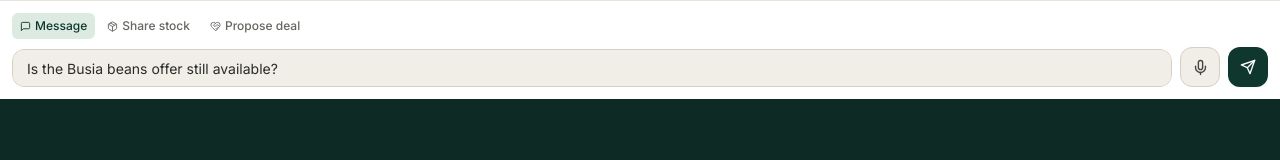
lets the buyer review and edit the draft before explicitly sending
Replace the text in the text box named "Message" with "Can I buy two bags?" at (592, 68), box [12,49,1172,87]
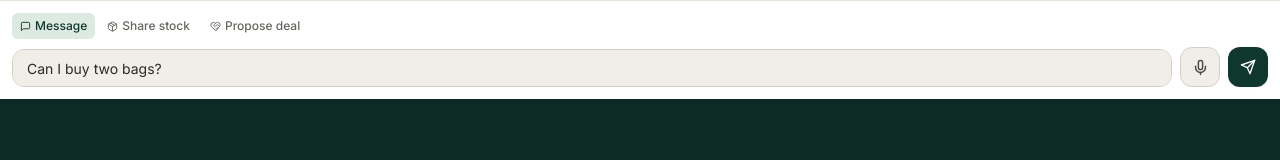
Click the button named "Send".
click(1248, 67)  # box [1228,47,1268,87]
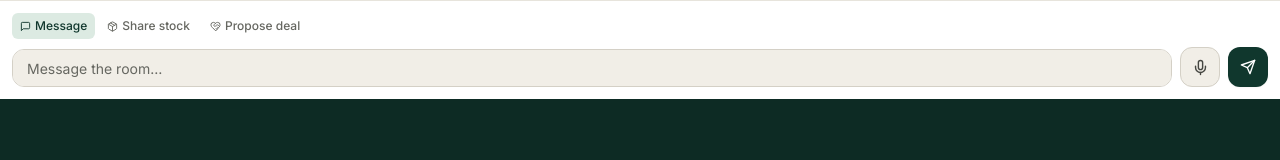
expect the text box labelled "Message" is empty: met, box [12,49,1172,87]
